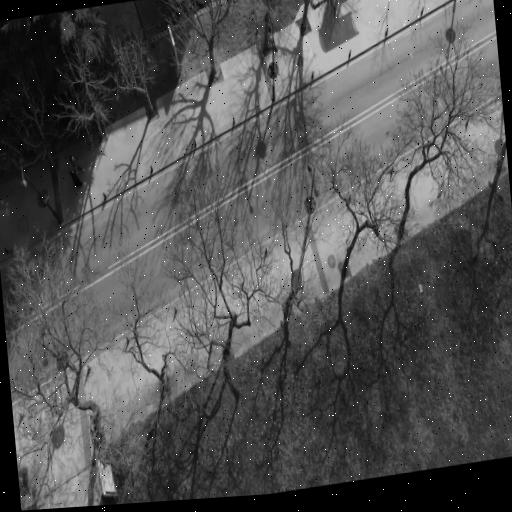person: (70, 155, 84, 172), (70, 170, 82, 187)
